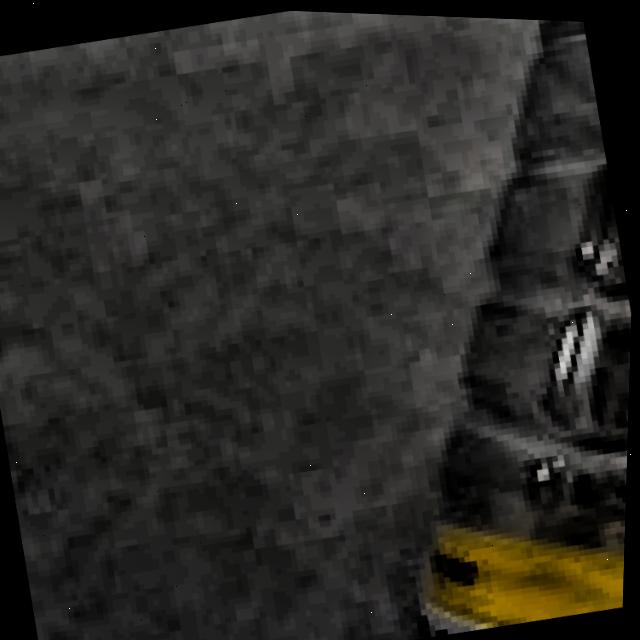plastic: (126, 4, 640, 640)
